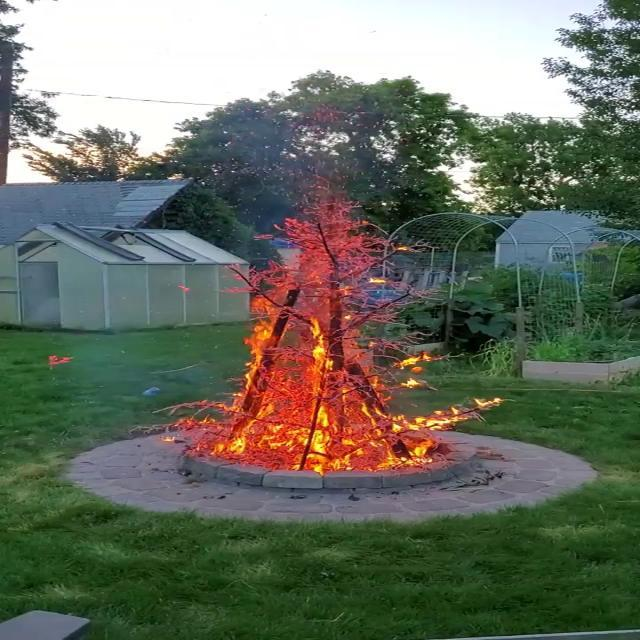Fire: (196, 195, 468, 476)
